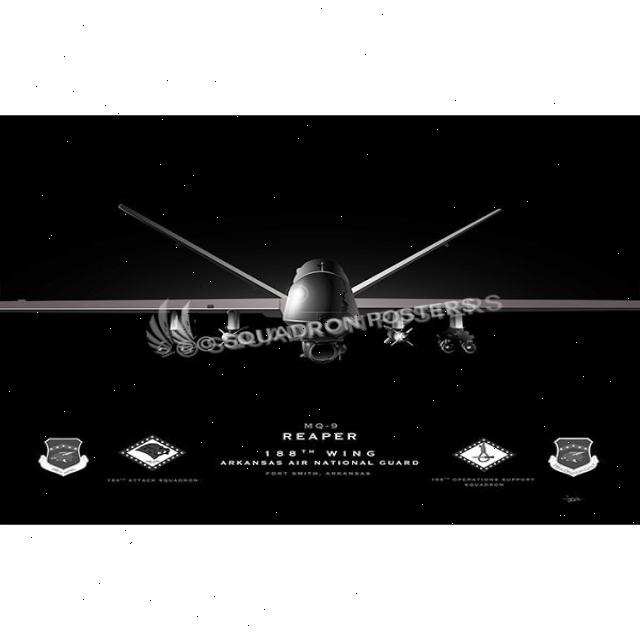MQ9: (0, 158, 640, 408)
